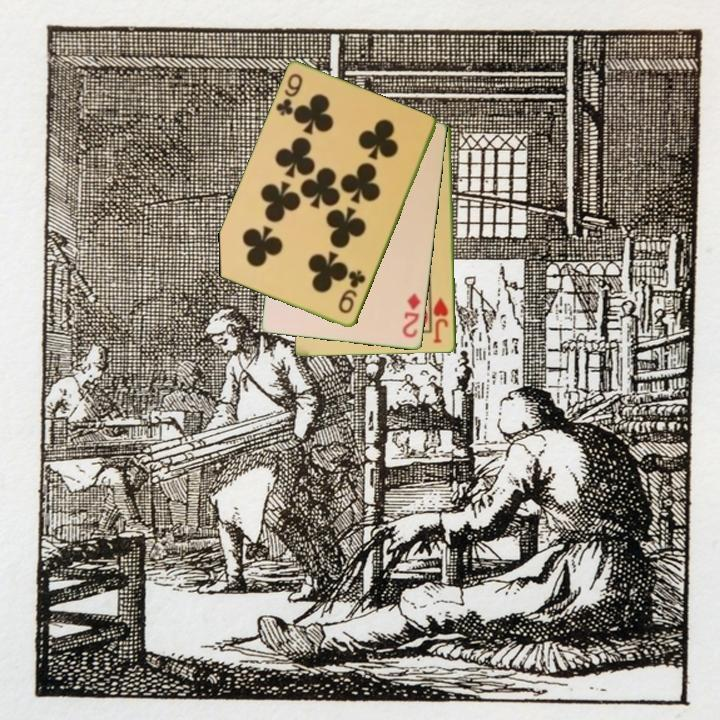2d: (399, 290, 423, 341)
9c: (335, 266, 369, 317), (272, 70, 306, 119)
Jh: (430, 294, 451, 346)
